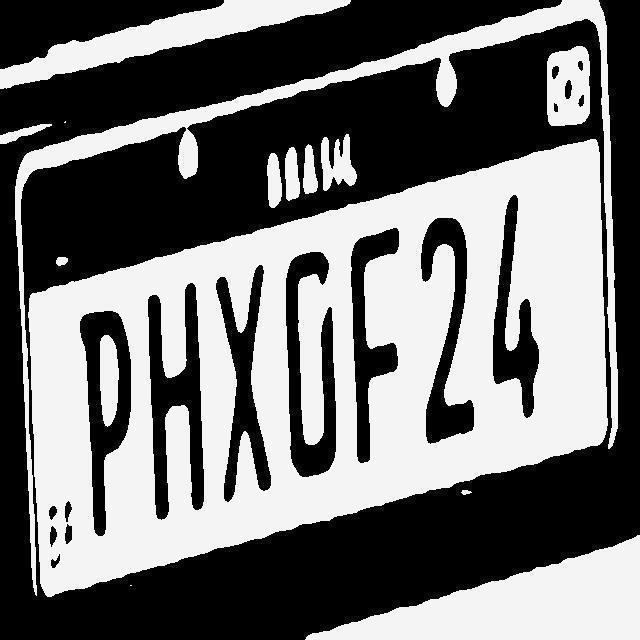0: (284, 242, 346, 495)
2: (416, 202, 480, 450)
4: (484, 185, 552, 428)
f: (345, 215, 413, 471)
h: (141, 278, 206, 524)
p: (66, 310, 142, 544)
x: (204, 256, 274, 504)
